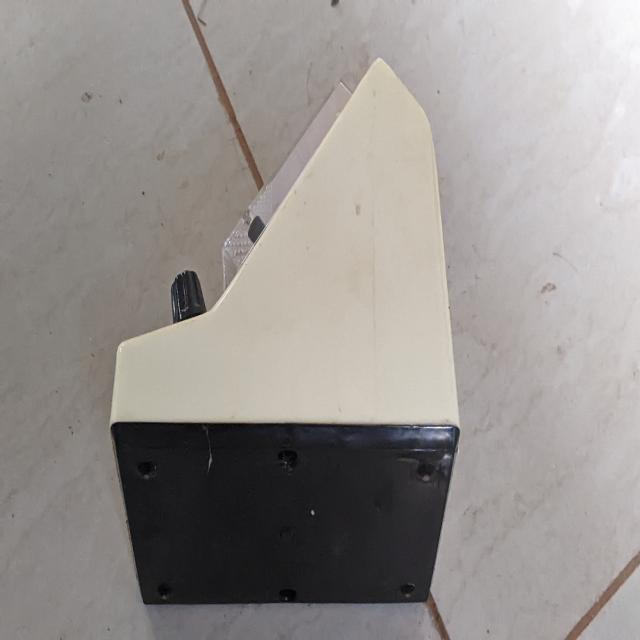Ammeter Analog: (100, 50, 468, 618)
